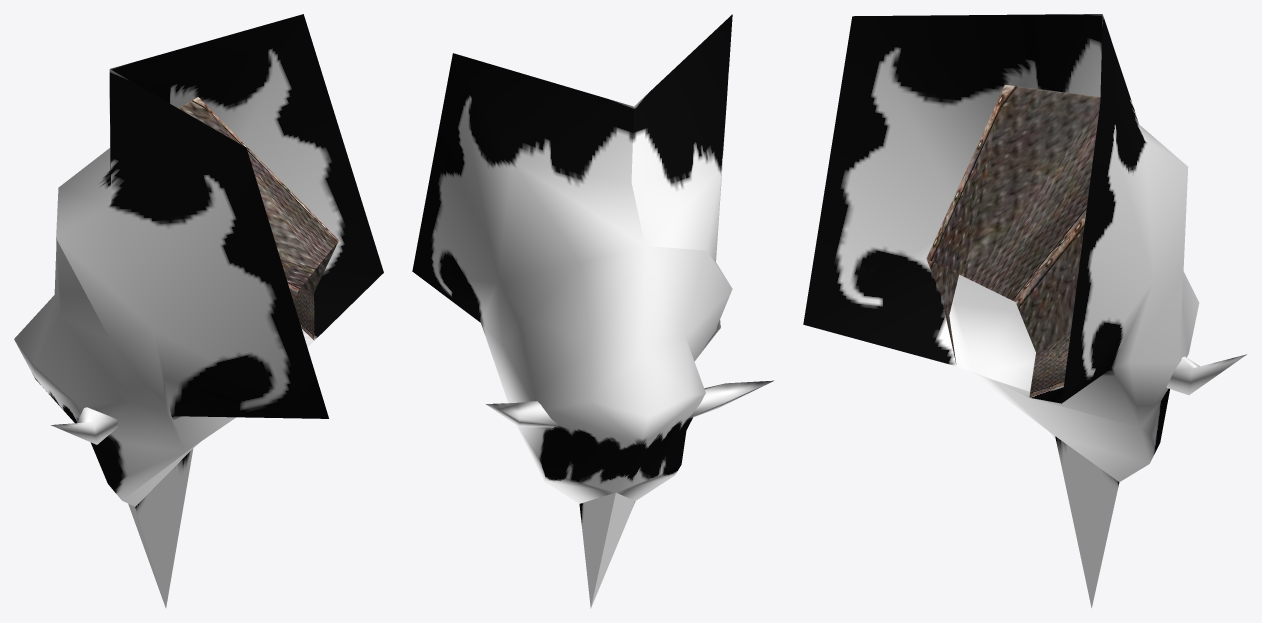
File: klion15.obj
3 renders of one model, left to right at view 1: azimuth 30°, elevation 25°; view 2: azimuth 150°, elevation 25°; view 3: azimuth 270°, elevation 25°, orthographic. The views are drawn at different scales.
Parts seen in each view (by area): view 1: klion15; view 2: klion15; view 3: klion15.
Part boxes in pixels (x1=…): klion15: x1=14, y1=14, x2=383, y2=607; klion15: x1=412, y1=14, x2=773, y2=608; klion15: x1=803, y1=14, x2=1246, y2=607.
Bounding box in the file's own units: 151 × 225 × 157.
